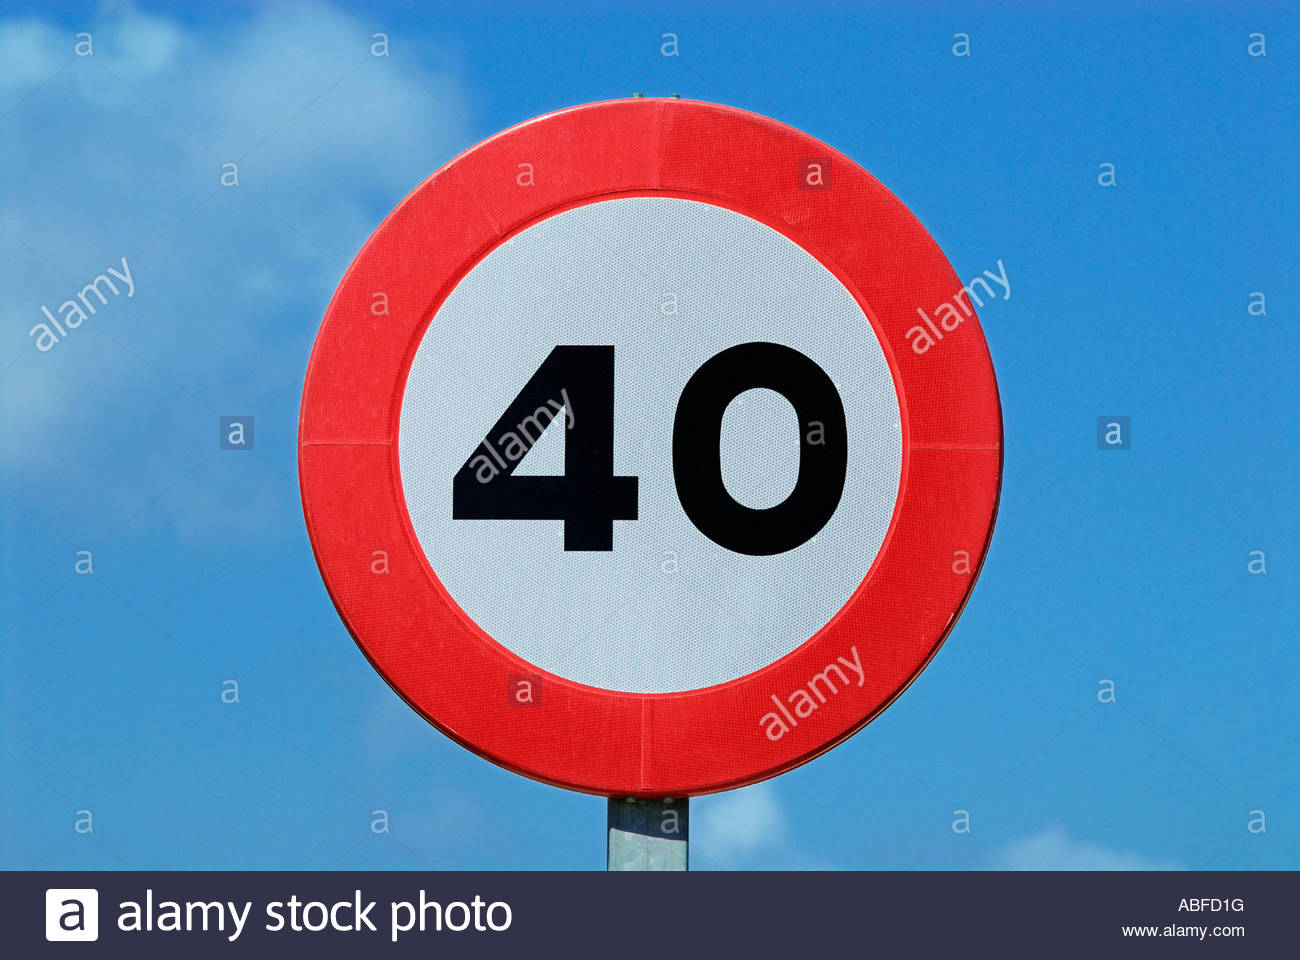Speed_limit_40km: (290, 93, 1013, 793)
